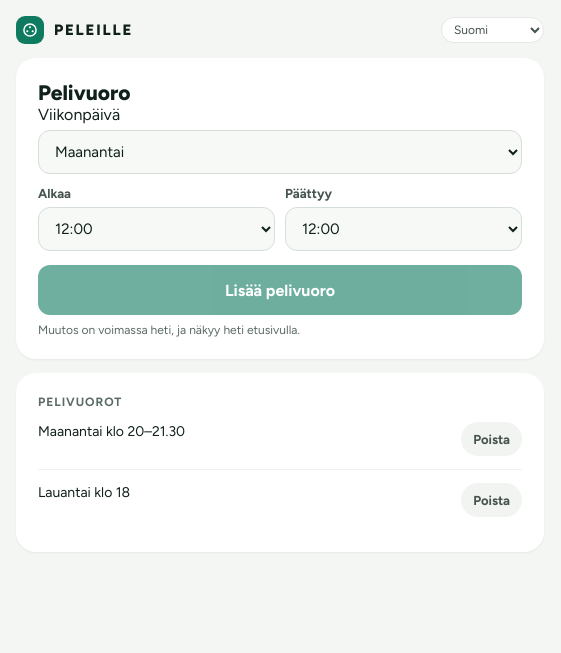
Test case: the unlisted settings page › shows the new slot in the list without a reload
Expected: the text "Maanantai klo 20–21.30" is shown, [38,423,185,440]
Select "Tiistai" in the dropdown labelled "Viikonpäivä". click: (280, 152)
box: [38,130,522,174]
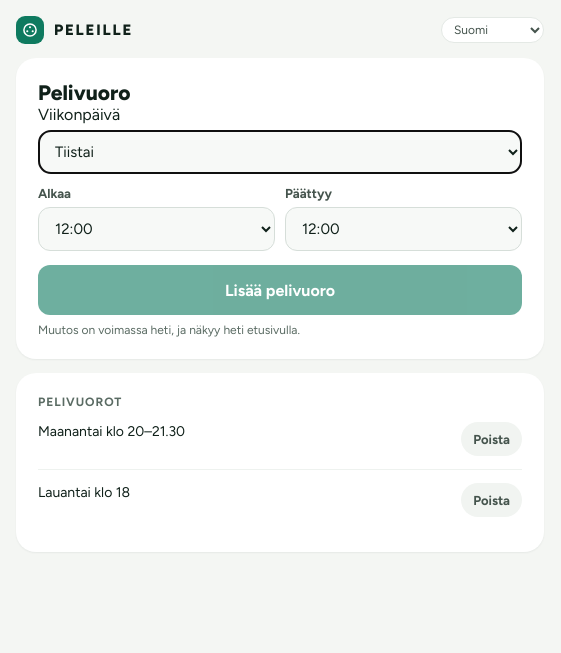
Select "19:00" in the dropdown labelled "Alkaa". click: (156, 229)
box: [38,207,275,251]
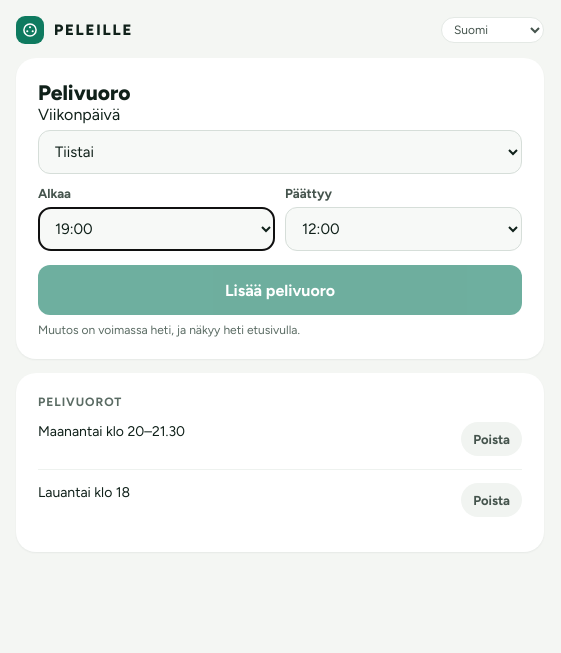
Select "20:00" in the dropdown labelled "Päättyy". click: (404, 229)
box: [285,207,522,251]
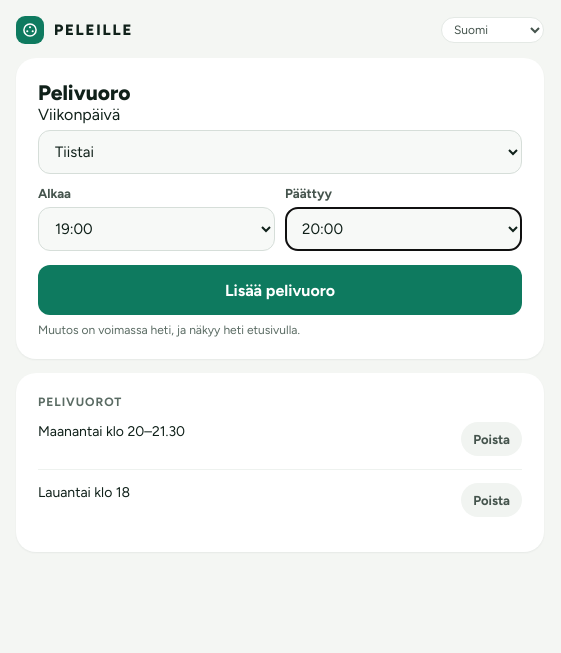
Click the button "Lisää pelivuoro". click: click(280, 290)
box: [38,265,522,315]
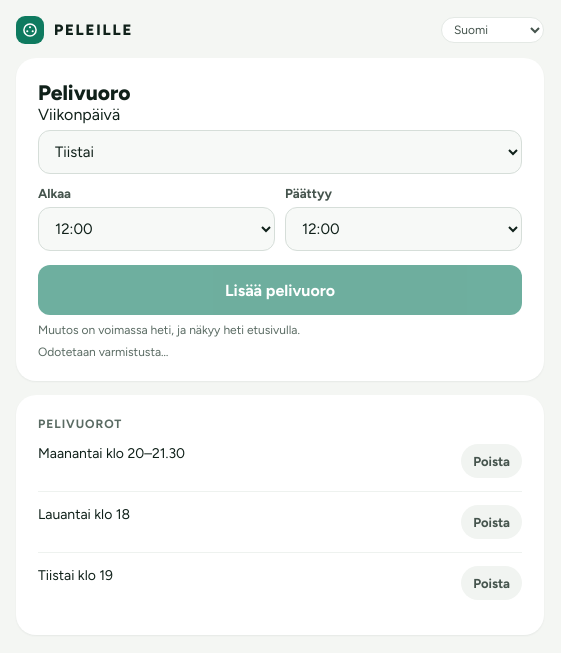
Expected: the text "Tiistai klo 19" is shown, [38,567,113,584]
